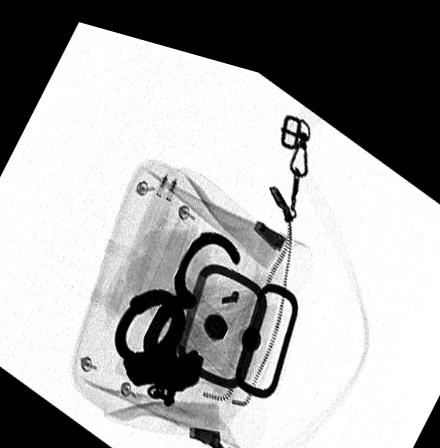HandCuffs: (112, 219, 240, 398)
